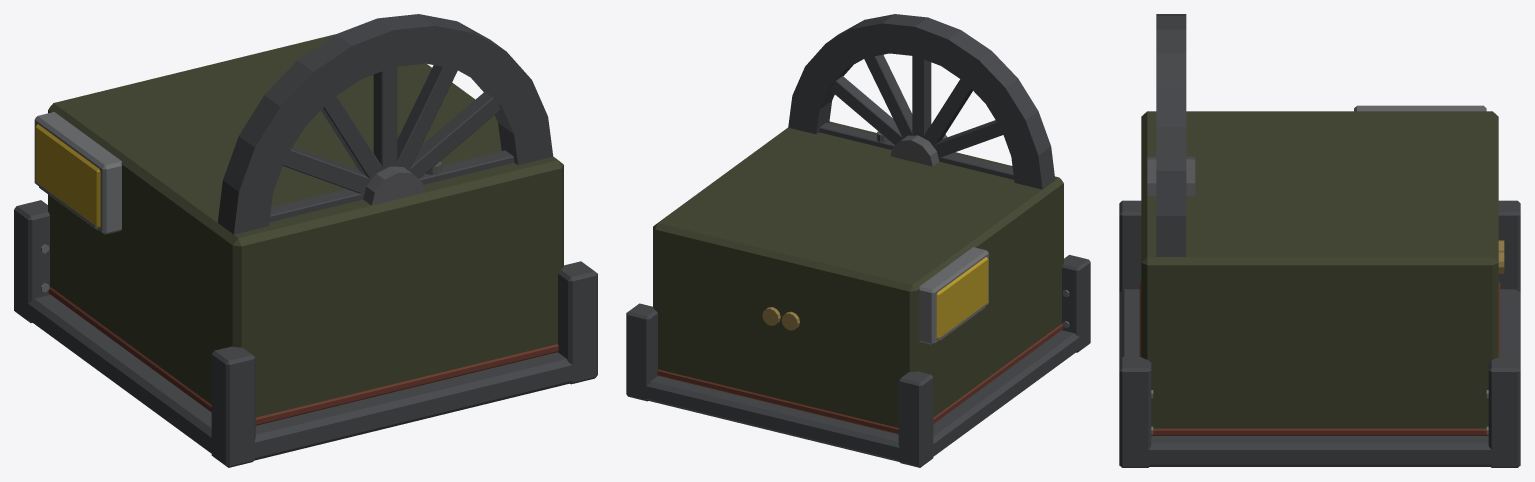
File: generator_mk1.glb
3 views of the same model, side by side, from view 1: azimuth 30°, elevation 25°; view 2: azimuth 150°, elevation 25°; view 3: azimuth 270°, elevation 25° (orthographic). The views are drawn at different scales.
Parts seen in each view (by area): view 1: generator_mk1_OliveDrab, generator_mk1_CastIron, generator_mk1_OxideRed, generator_mk1_HazardYellow, generator_mk1_WeldedSteel, generator_mk1_OiledSteel; view 2: generator_mk1_OliveDrab, generator_mk1_CastIron, generator_mk1_OxideRed, generator_mk1_HazardYellow, generator_mk1_WeldedSteel, generator_mk1_OiledSteel, generator_mk1_DullBrass; view 3: generator_mk1_OliveDrab, generator_mk1_CastIron, generator_mk1_OxideRed, generator_mk1_WeldedSteel, generator_mk1_OiledSteel.
Boxes of the visible parts, x1=… form: generator_mk1_OliveDrab: x1=48, y1=34, x2=563, y2=417; generator_mk1_CastIron: x1=14, y1=14, x2=597, y2=467; generator_mk1_OxideRed: x1=48, y1=287, x2=558, y2=425; generator_mk1_HazardYellow: x1=35, y1=124, x2=100, y2=227; generator_mk1_WeldedSteel: x1=34, y1=112, x2=121, y2=292; generator_mk1_OiledSteel: x1=353, y1=161, x2=441, y2=205; generator_mk1_OliveDrab: x1=653, y1=121, x2=1063, y2=427; generator_mk1_CastIron: x1=626, y1=14, x2=1090, y2=467; generator_mk1_OxideRed: x1=657, y1=324, x2=1063, y2=434; generator_mk1_HazardYellow: x1=936, y1=257, x2=988, y2=339; generator_mk1_WeldedSteel: x1=919, y1=247, x2=1069, y2=344; generator_mk1_OiledSteel: x1=877, y1=131, x2=947, y2=166; generator_mk1_DullBrass: x1=762, y1=307, x2=799, y2=330; generator_mk1_OliveDrab: x1=1141, y1=111, x2=1498, y2=428; generator_mk1_CastIron: x1=1119, y1=14, x2=1520, y2=467; generator_mk1_OxideRed: x1=1139, y1=282, x2=1500, y2=435; generator_mk1_WeldedSteel: x1=1151, y1=105, x2=1488, y2=434; generator_mk1_OiledSteel: x1=1147, y1=156, x2=1195, y2=196.
Bounding box in the file's own units: 4 × 3.9 × 4.
